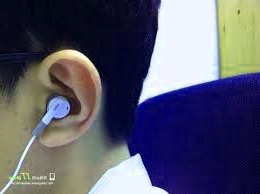earphone: (23, 49, 103, 149)
